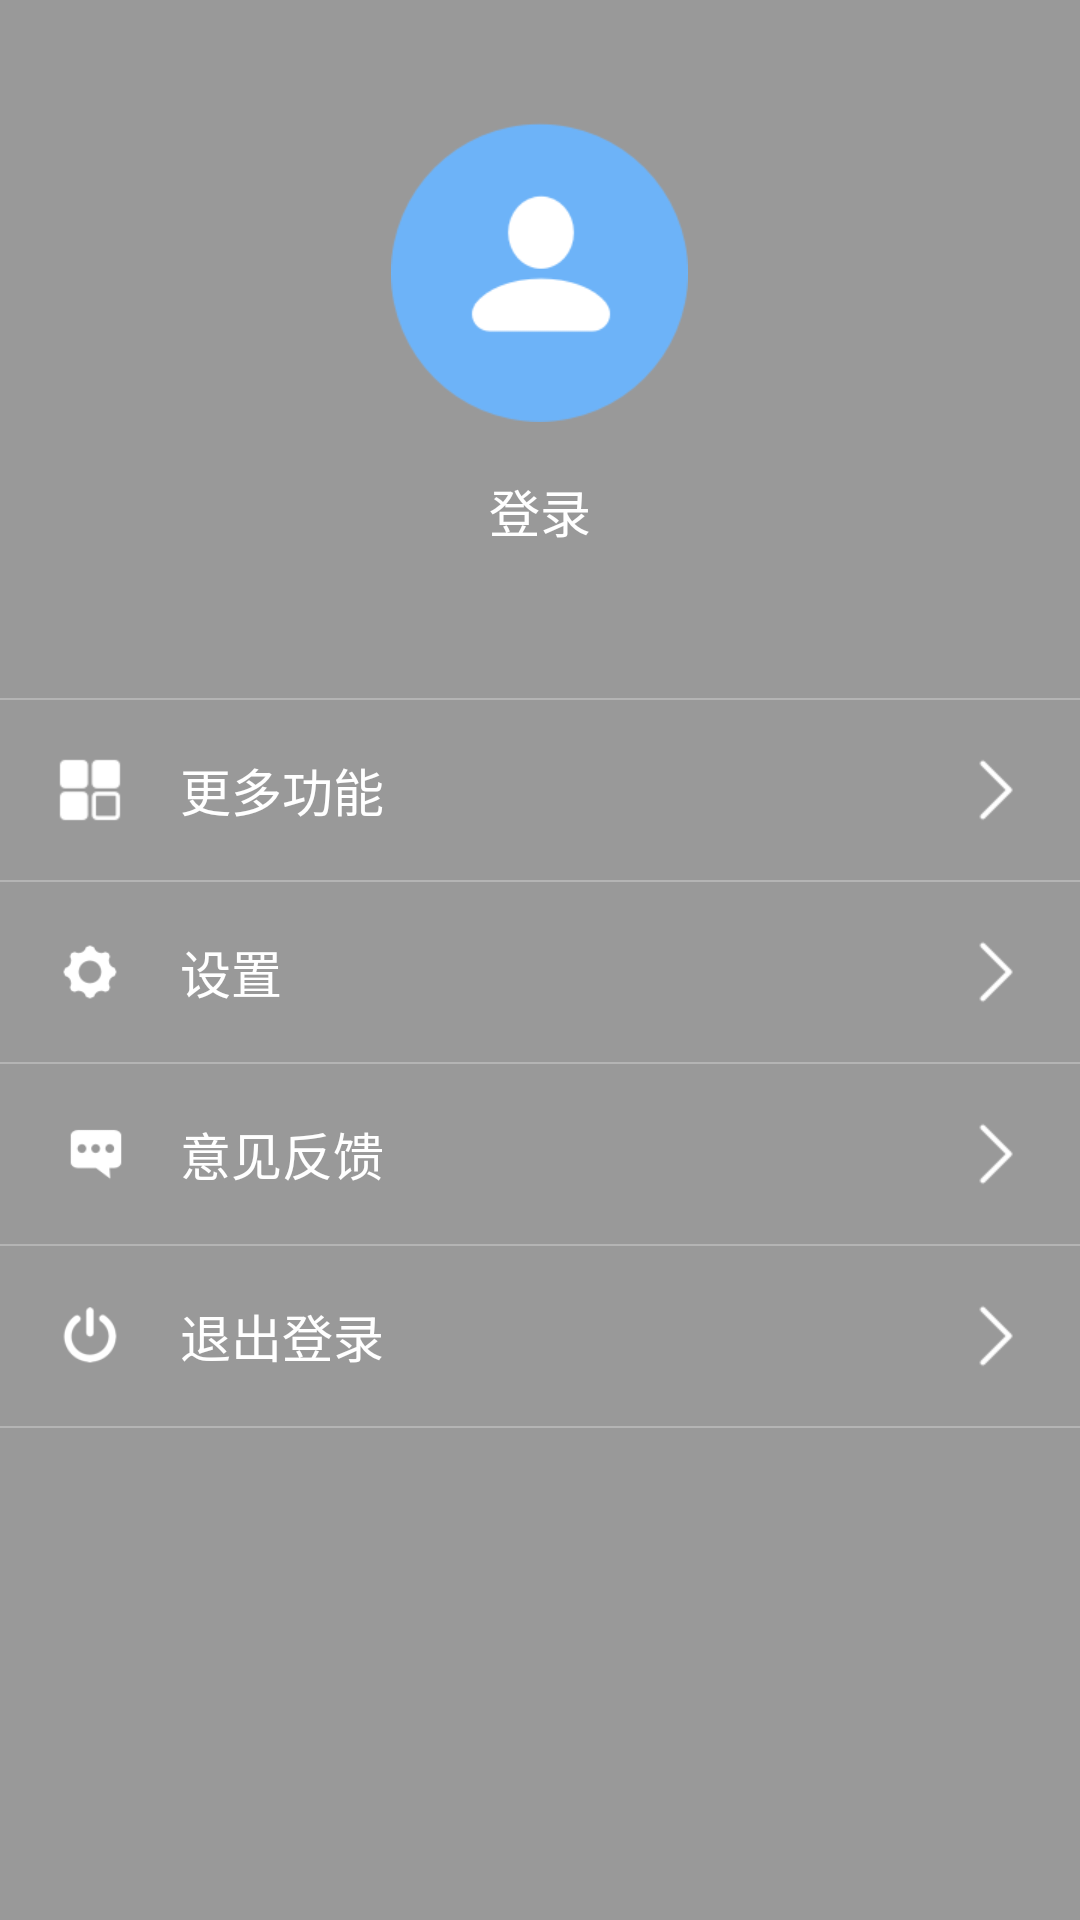

Locate icon controls on the screen. Image size 1080px x 1920px, boxes as (x1, y1, x2, y2).
feedback: (70, 1130, 122, 1178)
more: (60, 760, 120, 820)
right arrow: (980, 760, 1013, 820), (980, 942, 1013, 1002), (980, 1124, 1013, 1184), (980, 1306, 1013, 1366)
setting: (63, 945, 117, 999)
user man: (391, 124, 688, 422)
